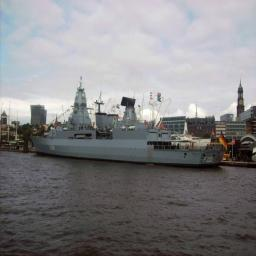Fragata: (25, 70, 229, 171)
